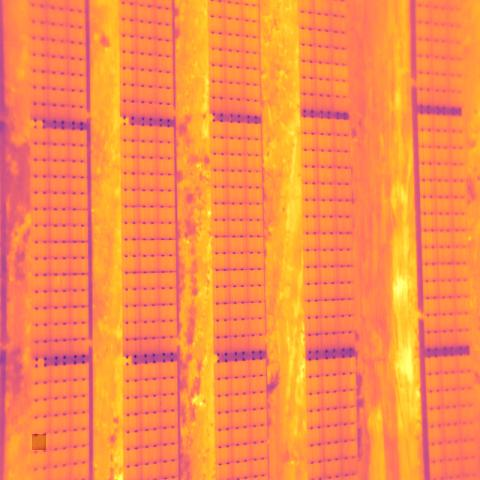fault: (32, 434, 46, 450)
